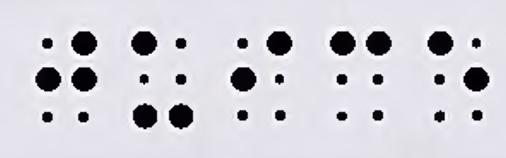letter_c: (324, 30, 394, 122)
letter_e: (426, 29, 491, 125)
letter_i: (228, 30, 295, 124)
letter_j: (34, 30, 98, 123)
letter_u: (130, 30, 194, 131)
